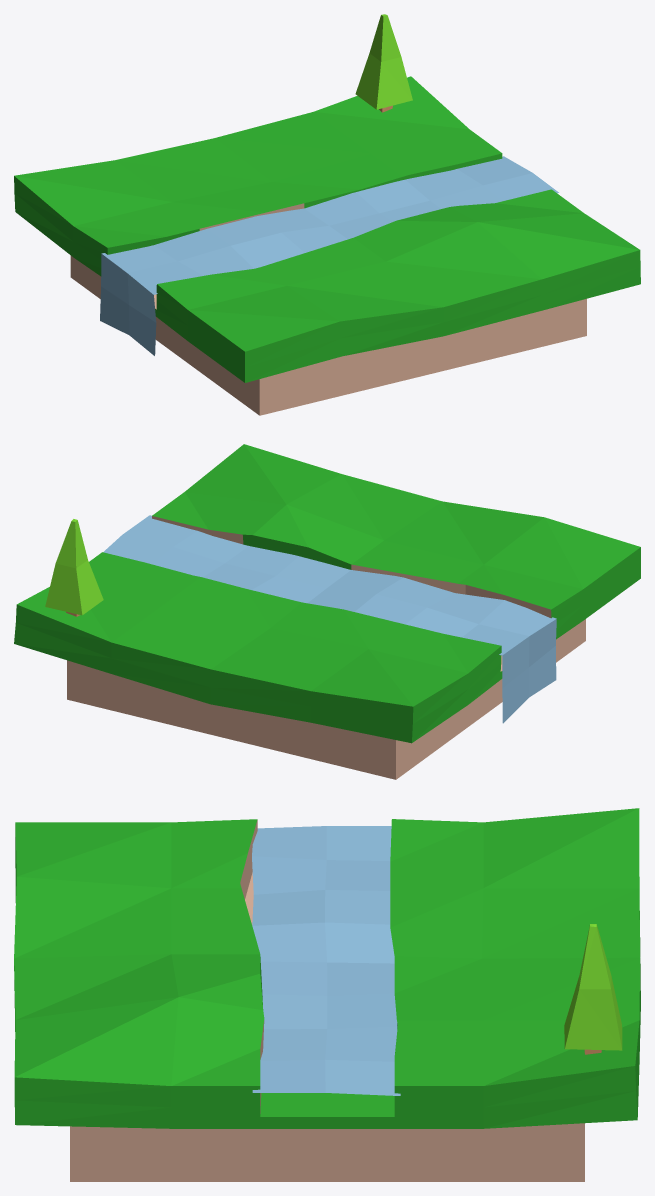
File: lowpoly.glb
3 renders of one model, top to bottom at view 1: azimuth 30°, elevation 25°; view 2: azimuth 150°, elevation 25°; view 3: azimuth 270°, elevation 25°, orthographic. The views are drawn at different scales.
Parts seen in each view (by area): view 1: Cube, Plane, Cube.002; view 2: Cube, Plane, Cube.002; view 3: Cube, Plane, Cube.002.
Part boxes in pixels (<box>): Cube: <box>14,76,640,415</box>; Plane: <box>100,156,558,355</box>; Cube.002: <box>355,14,412,112</box>; Cube: <box>14,444,640,779</box>; Plane: <box>103,515,556,723</box>; Cube.002: <box>45,519,103,616</box>; Cube: <box>14,808,640,1181</box>; Plane: <box>252,826,400,1095</box>; Cube.002: <box>564,924,622,1054</box>.
Size of the model in its own units: 7.44 by 3.21 by 7.3.
